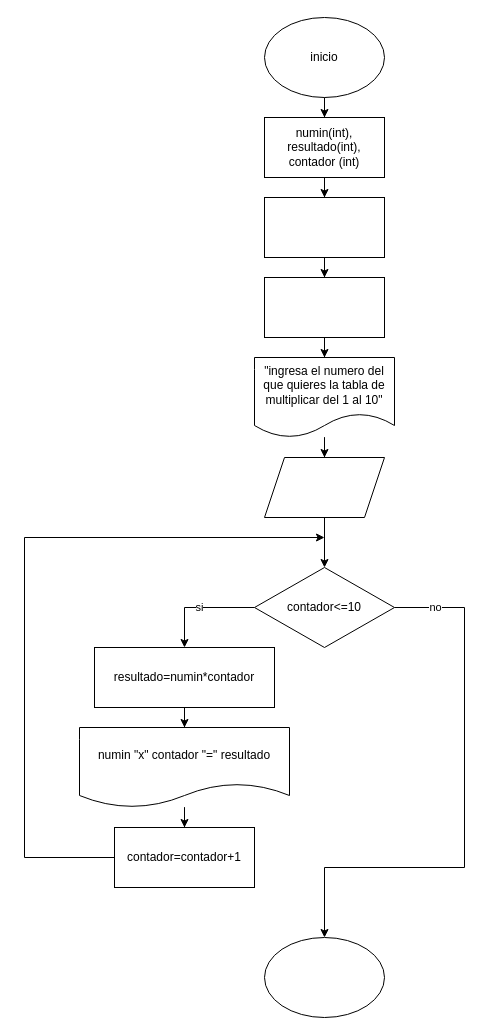
Image size: 490x1035. Some labels were removed from this diagram. Here are the shapes that lost their labels. From the top down, the centre of each, then its label:
At point 324,227: "contador=1".
At point 324,307: "resultado=0".
At point 324,487: "numin".
At point 324,977: "fin".
